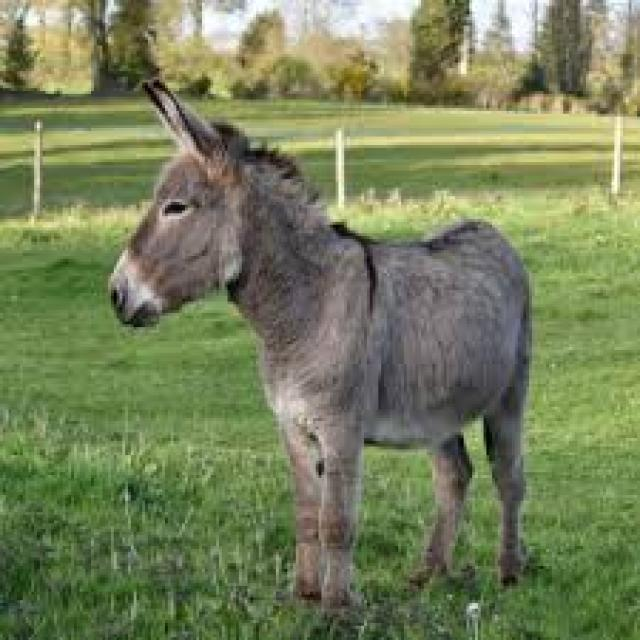Donkey: (76, 36, 572, 622)
